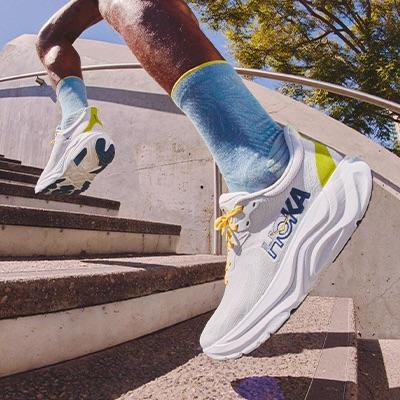hoka logo: (261, 189, 311, 259)
